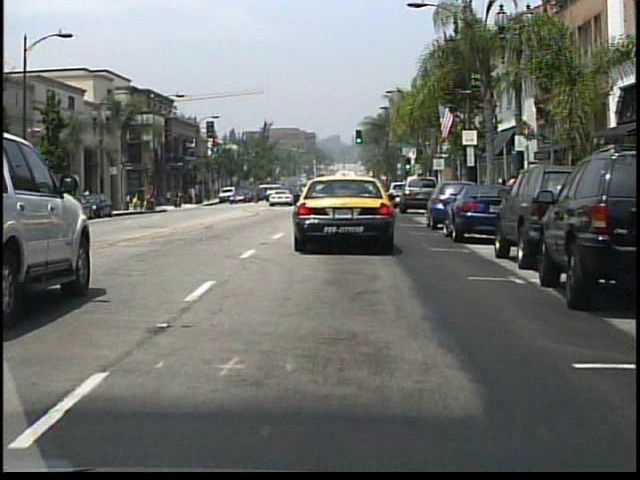person: (177, 190, 185, 210)
